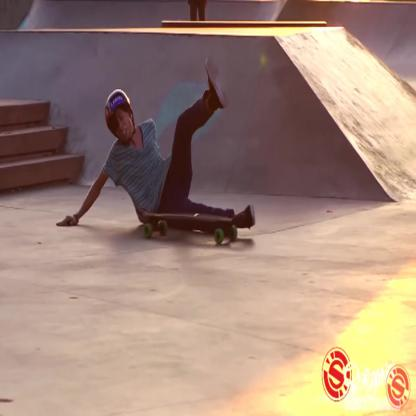Fall_Down: (54, 55, 258, 242)
